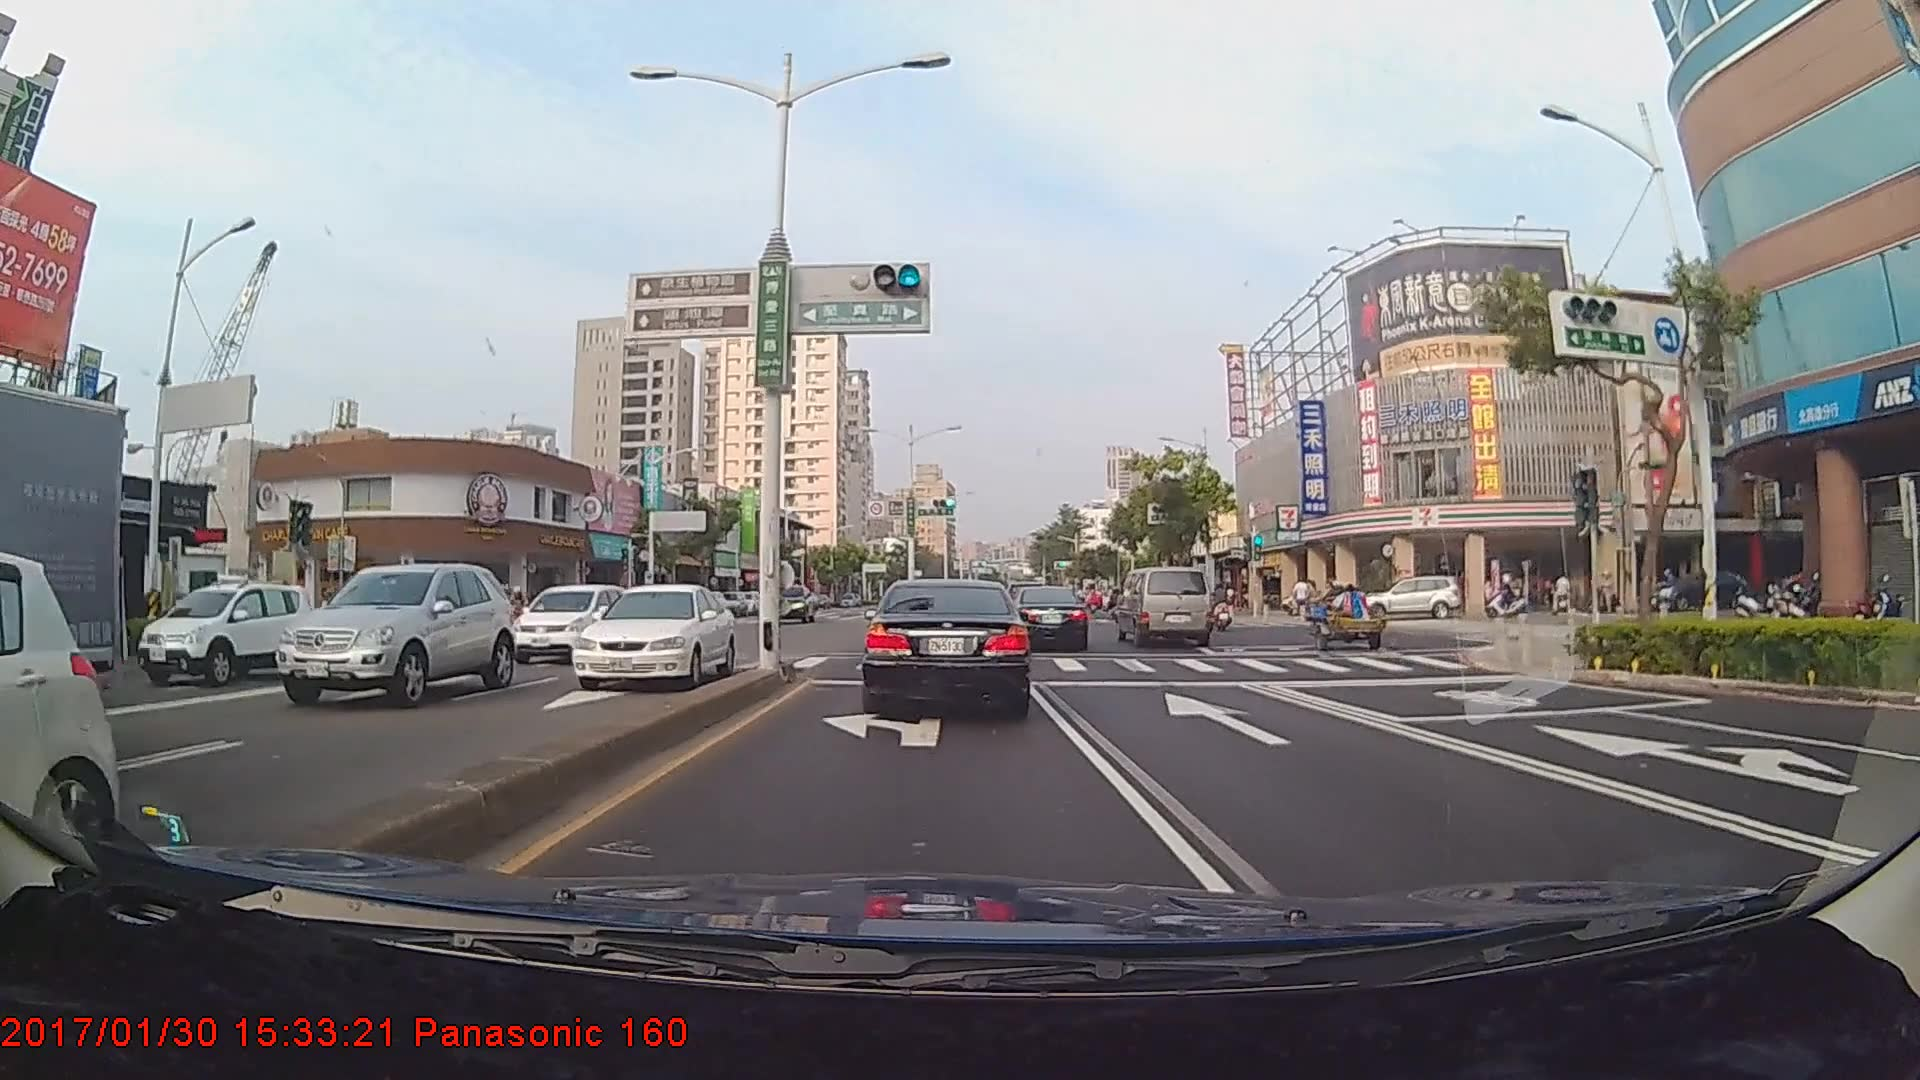rider: (497, 583, 534, 639), (1207, 582, 1240, 635)
vehicle: (0, 382, 127, 733), (3, 545, 114, 892), (258, 556, 506, 708), (863, 573, 1032, 718), (568, 581, 740, 688), (151, 576, 304, 688), (505, 582, 633, 662), (1119, 564, 1214, 648), (1006, 584, 1091, 651), (1370, 574, 1465, 622)
